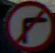Don't turn right: (4, 6, 50, 47)
